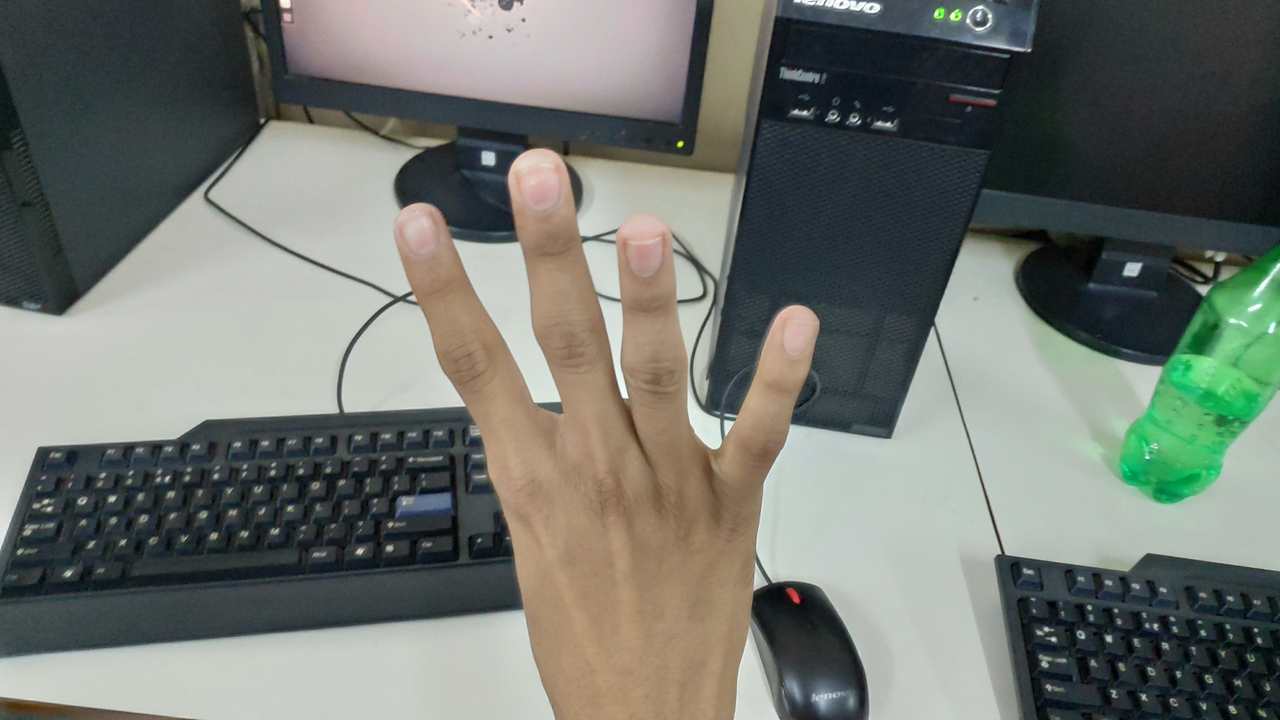fingertip: (500, 146, 580, 216), (382, 192, 450, 264), (614, 208, 678, 274), (758, 302, 826, 362)
